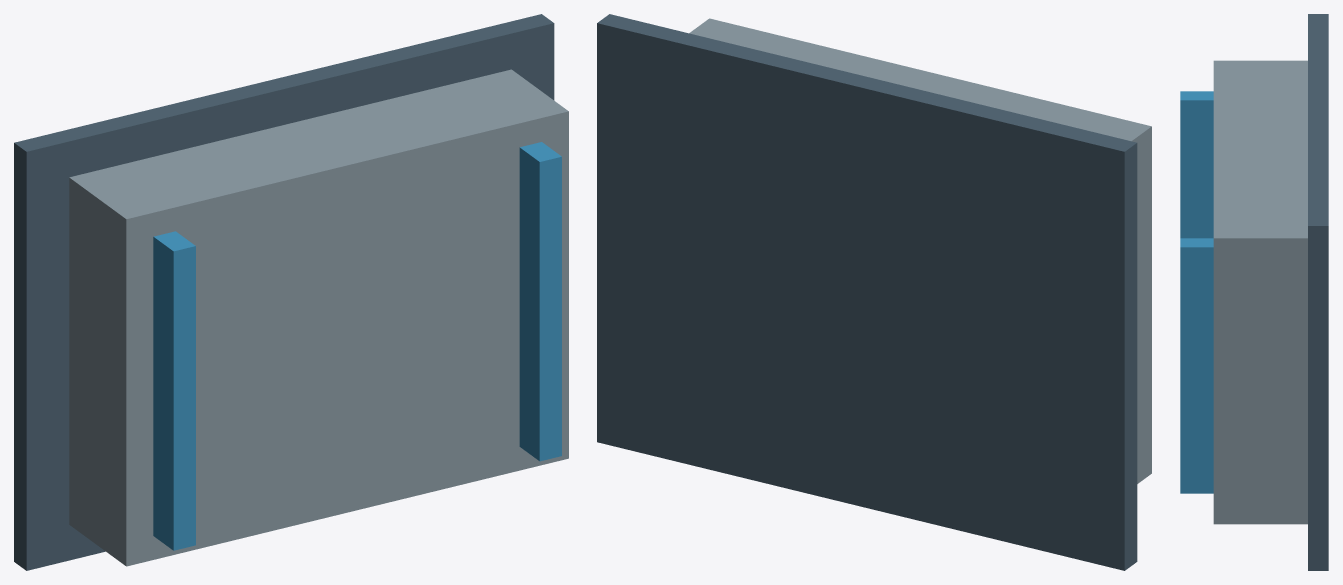
File: b_airfield_stage2.glb
3 views of the same model, side by side, from view 1: azimuth 30°, elevation 25°; view 2: azimuth 150°, elevation 25°; view 3: azimuth 270°, elevation 25° (orthographic). The views are drawn at different scales.
Parts seen in each view (by area): view 1: main_structure, foundation, support_-2.88, support_2.88; view 2: foundation, main_structure; view 3: main_structure, foundation, support_2.88, support_-2.88.
Boxes of the visible parts, x1,y1,x2,y2 form: main_structure: [69, 69, 568, 566]; foundation: [14, 14, 554, 570]; support_-2.88: [153, 231, 195, 550]; support_2.88: [519, 142, 561, 461]; foundation: [597, 14, 1137, 570]; main_structure: [689, 18, 1151, 483]; main_structure: [1213, 60, 1307, 524]; foundation: [1308, 14, 1328, 570]; support_2.88: [1180, 238, 1213, 493]; support_-2.88: [1180, 91, 1213, 238].
Bounding box in the file's own units: 8.3 × 6.3 × 2.45.
